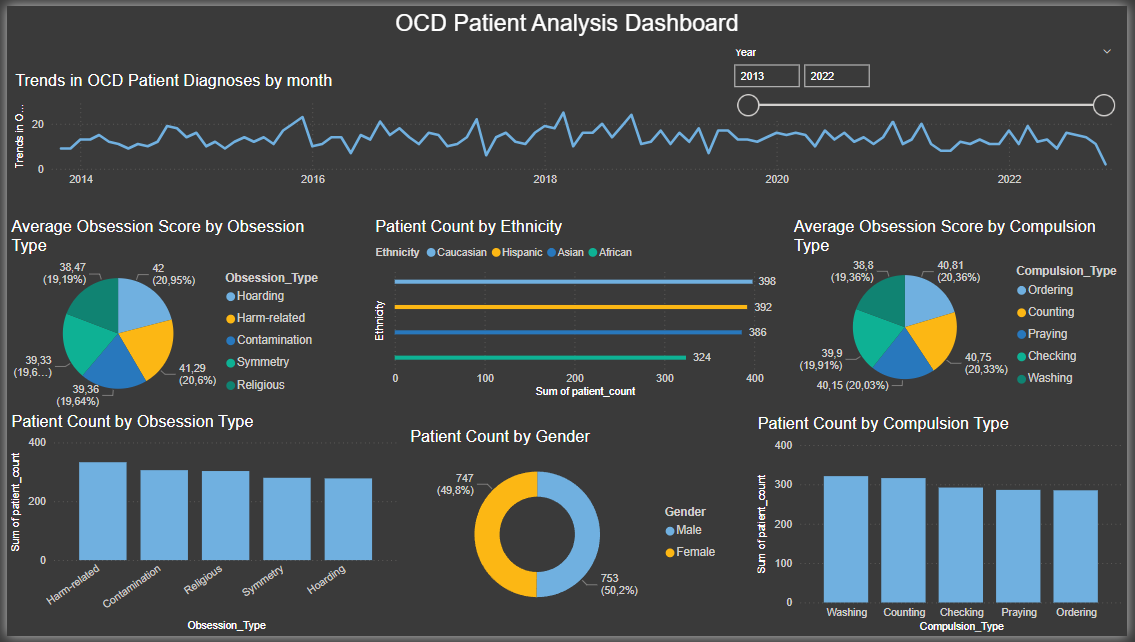

The dashboard page shown, as its layout file describes it:
{"tool":"powerbi","page":{"name":"Page 1","canvas":[1280,720],"ordinal":0},"visuals":[{"type":"lineChart","fields":{"Y":["Sum(diagnosis_month.patient_count)"],"Category":["diagnosis_month.month"]},"box":[4.8,74.8,1270.4,139.9],"z":0},{"type":"clusteredBarChart","title":"Patient Count by Ethnicity","fields":{"Category":["gender_ethnicity_count.Ethnicity"],"Y":["Sum(gender_ethnicity_count.patient_count)"],"Series":["gender_ethnicity_count.Ethnicity"]},"box":[415,241.3,479,211.1],"z":1000},{"type":"columnChart","title":"Patient Count by Compulsion Type","fields":{"Category":["comp_type.Compulsion_Type"],"Y":["Sum(comp_type.patient_count)"]},"box":[853,466.9,427.1,253.4],"z":2000},{"type":"columnChart","title":"Patient Count by Obsession Type","fields":{"Category":["obs_type.Obsession_Type"],"Y":["Sum(obs_type.patient_count)"]},"box":[0,464.5,452.4,255.8],"z":3000},{"type":"donutChart","title":"Patient Count by Gender","fields":{"Category":["gender.Gender"],"Y":["Sum(gender.patient_count)"]},"box":[456,481.4,368,224.4],"z":4000},{"type":"slicer","fields":{"Values":["diagnosis_month.month.Variation.Date Hierarchy.Year"]},"box":[819.2,41,456,89.3],"z":5000},{"type":"pieChart","title":"Average Obsession Score by Obsession Type","fields":{"Category":["obs_type.Obsession_Type"],"Y":["Sum(obs_type.avg_obs_score)"]},"box":[0,241.3,376.4,224.4],"z":6000},{"type":"textbox","box":[1130,275,150,192],"z":7000},{"type":"textbox","box":[0,0,1280,49.5],"z":8000},{"type":"pieChart","title":"Average Obsession Score by Compulsion Type","fields":{"Category":["comp_type.Compulsion_Type"],"Y":["Sum(comp_type.avg_obs_score)"]},"box":[894,241.3,386.1,209.9],"z":9000}]}

Visuals, with their boxes in screenshot pixels (x1, y1, x2, y2), scaled from the page's 1280x720 canvas onto the 1135x642 screenshot:
lineChart - Sum(diagnosis_month.patient_count) x diagnosis_month.month: (4,67,1131,191)
"Patient Count by Ethnicity" clusteredBarChart: (368,215,793,403)
"Patient Count by Compulsion Type" columnChart: (756,416,1134,641)
"Patient Count by Obsession Type" columnChart: (0,414,401,641)
"Patient Count by Gender" donutChart: (404,429,731,629)
slicer - diagnosis_month.month.Variation.Date Hierarchy.Year: (726,37,1131,116)
"Average Obsession Score by Obsession Type" pieChart: (0,215,334,415)
textbox: (1002,245,1134,416)
textbox: (0,0,1134,44)
"Average Obsession Score by Compulsion Type" pieChart: (793,215,1134,402)
